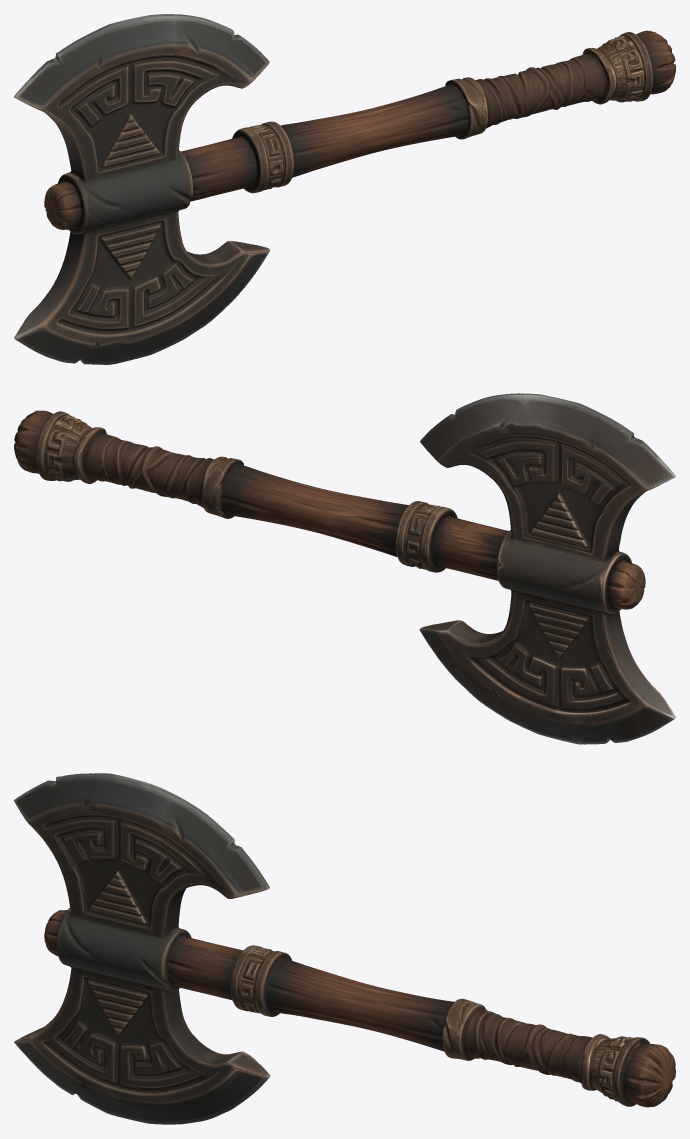
The model's file is 2h_labrys.glb.
3 views of the same model, one above another, from view 1: azimuth 30°, elevation 25°; view 2: azimuth 150°, elevation 25°; view 3: azimuth 330°, elevation 25° (orthographic).
Bounding box in the file's own units: 1.9 × 0.9436 × 0.1748.
Materials: 1 (1 with a texture image).
